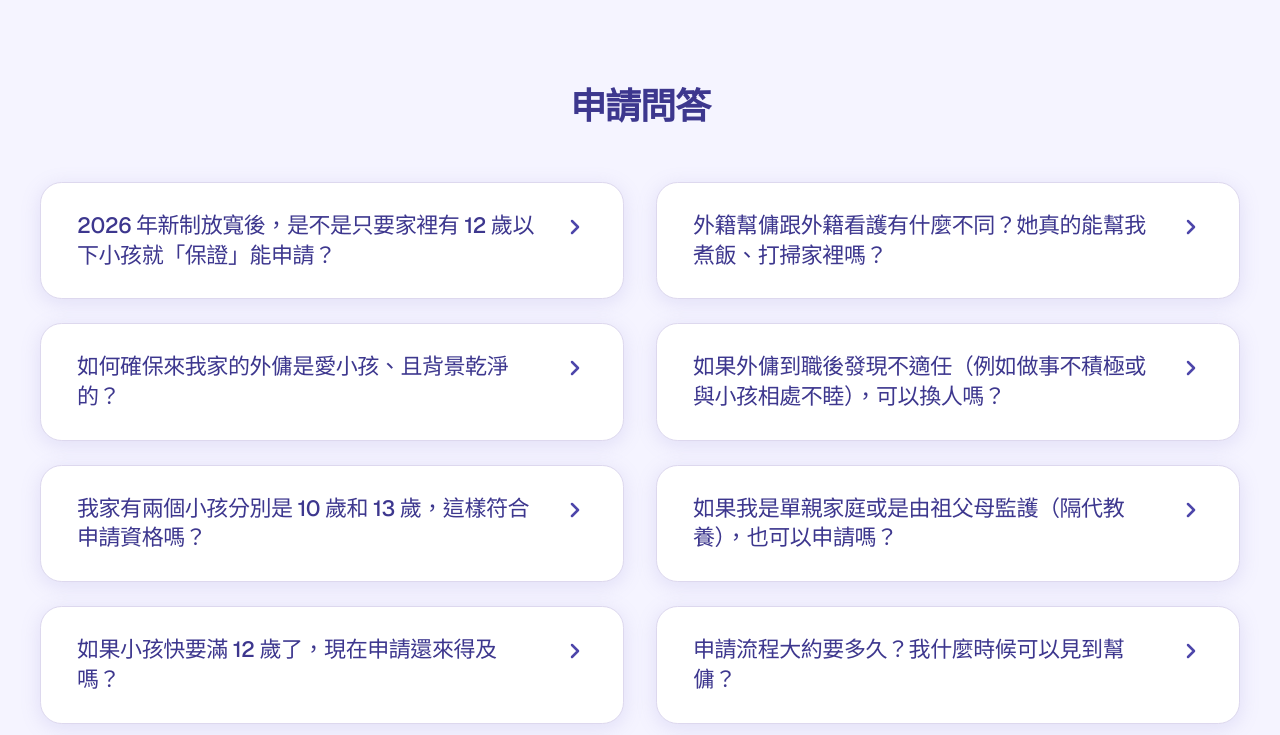
Test: FAQAccordionSection › 點擊 FAQ item 展開顯示答案
Click the button "2026 年新制放寬後，是不是只要家裡有 12 歲以下小孩就「保證」能申請？" at [332, 241], box [41,183,623,298]
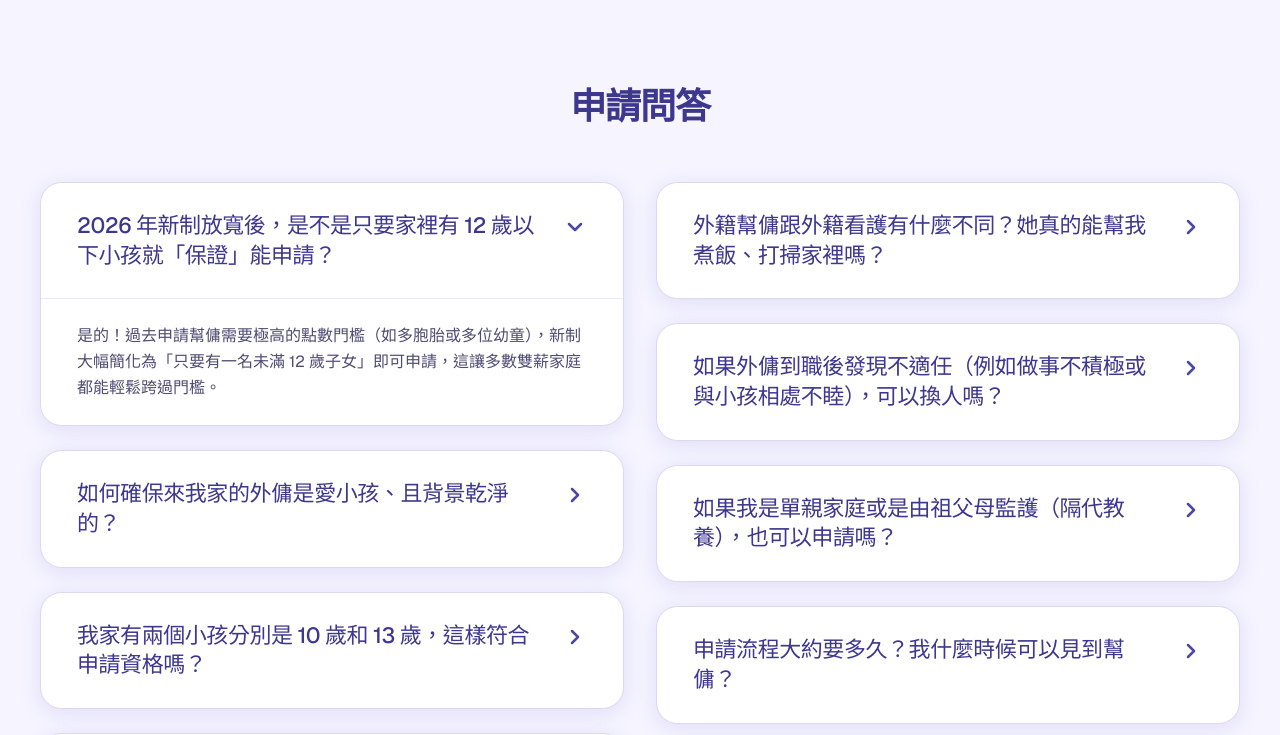
Check: the button "2026 年新制放寬後，是不是只要家裡有 12 歲以下小孩就「保證」能申請？" is expanded, box [41,183,623,298]
